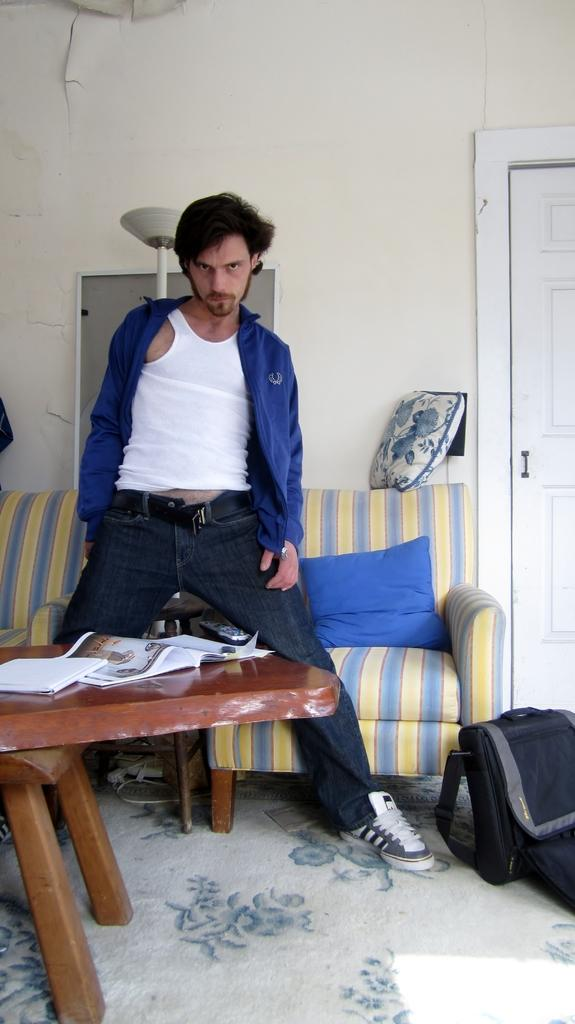Luggage-and-bags: (433, 702, 571, 905)
